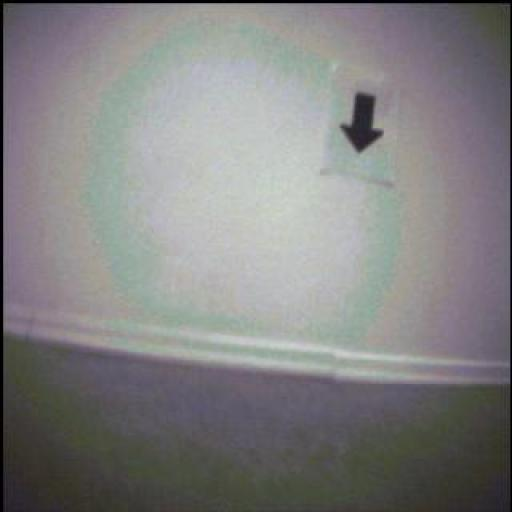arrow: (342, 94, 385, 153)
